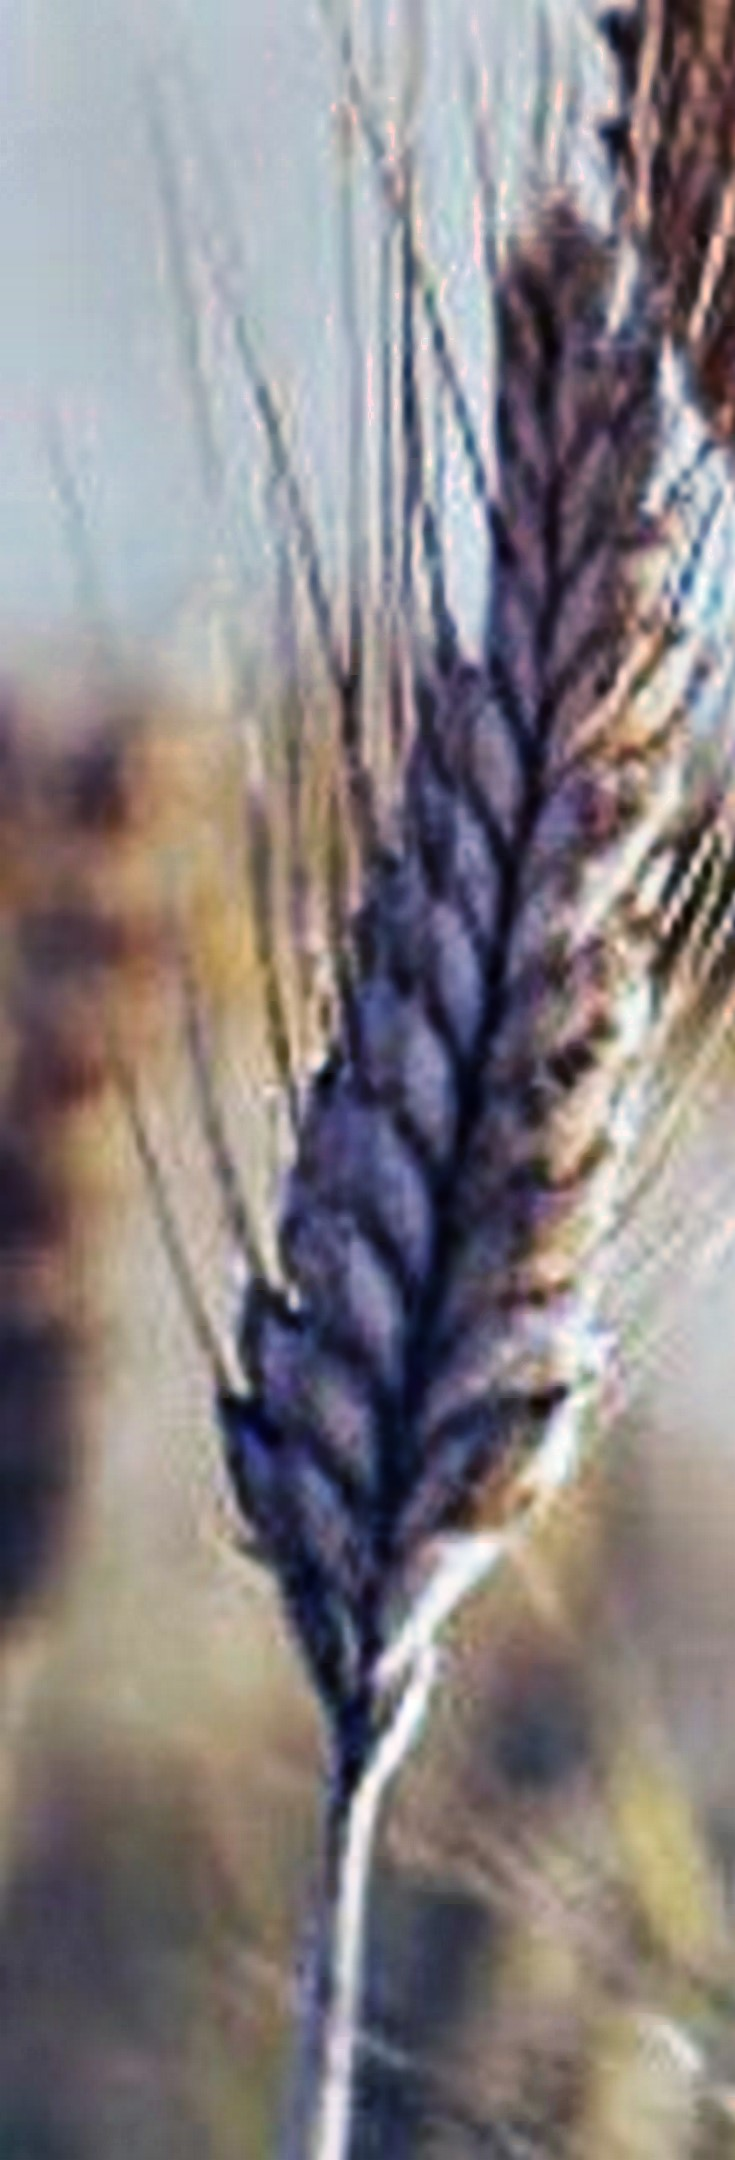Healthy Wheat: (191, 291, 735, 1696)
